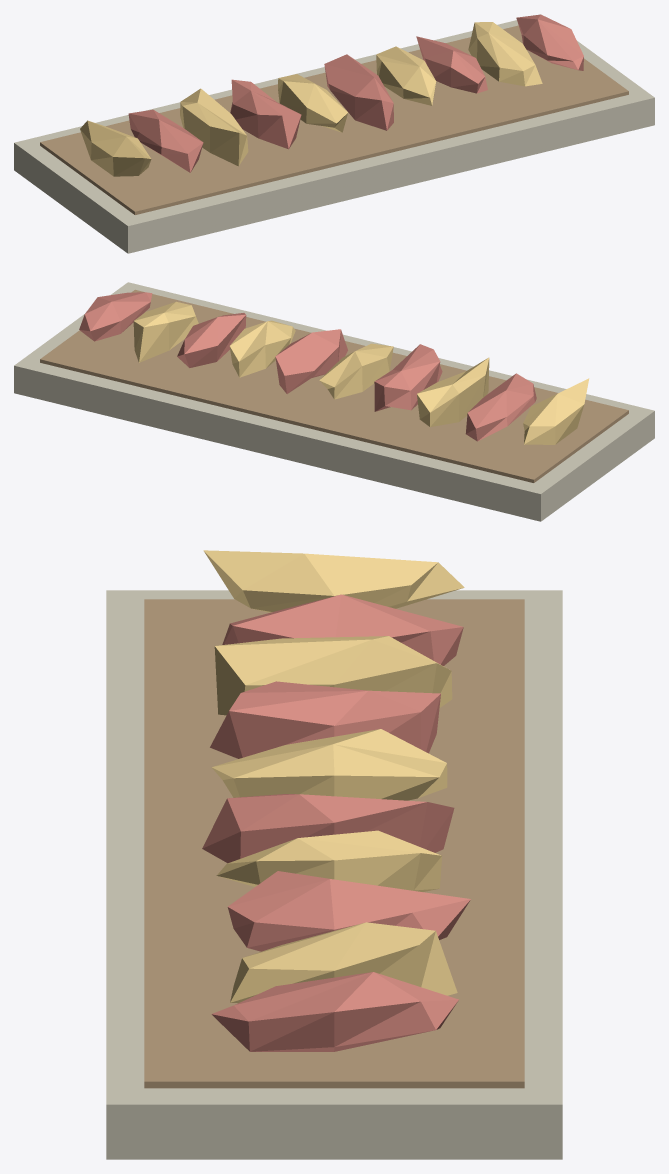
The model's file is flowerbed.glb.
3 views of the same model, one above another, from view 1: azimuth 30°, elevation 25°; view 2: azimuth 150°, elevation 25°; view 3: azimuth 270°, elevation 25° (orthographic). The views are drawn at different scales.
Size of the model in its own units: 8 by 1 by 3.
